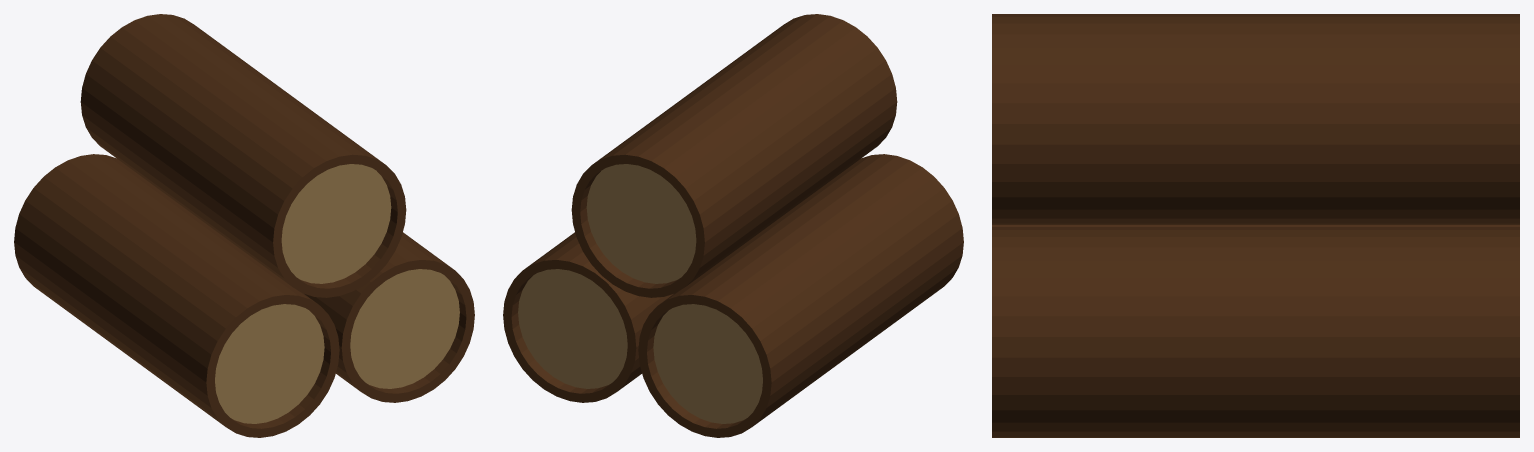
Rendered from Wood.fbx.
The picture shows the model from 3 angles, left to right: view 1: azimuth 30°, elevation 25°; view 2: azimuth 150°, elevation 25°; view 3: azimuth 270°, elevation 25°; orthographic projection. The views are drawn at different scales.
Visible parts, largest first — view 1: Cylinder.002, Cylinder.004, Cylinder.003; view 2: Cylinder.002, Cylinder.004, Cylinder.003; view 3: Cylinder.002, Cylinder.003, Cylinder.004.
Boxes of the visible parts, <box> form: Cylinder.002: <box>80,14,406,297</box>; Cylinder.004: <box>14,154,339,437</box>; Cylinder.003: <box>304,232,474,402</box>; Cylinder.002: <box>571,14,897,297</box>; Cylinder.004: <box>638,154,963,437</box>; Cylinder.003: <box>503,232,673,402</box>; Cylinder.002: <box>992,14,1519,224</box>; Cylinder.003: <box>992,227,1519,437</box>; Cylinder.004: <box>992,225,1519,226</box>.
Bounding box in the file's own units: 27.05 × 25.33 × 33.55.
